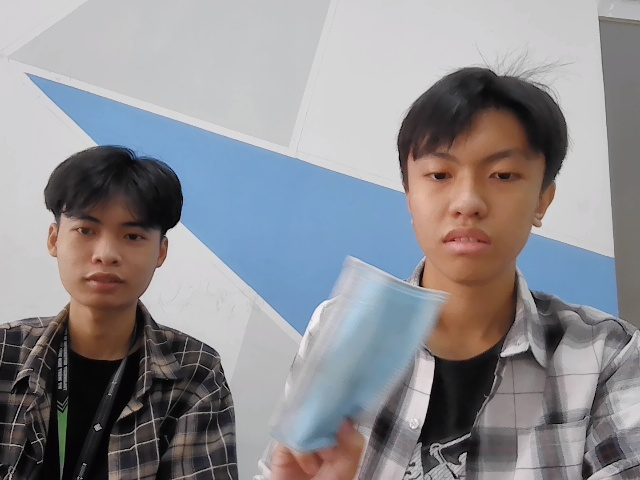human: (386, 55, 570, 279), (45, 142, 192, 314)
mask: (266, 248, 445, 444)
